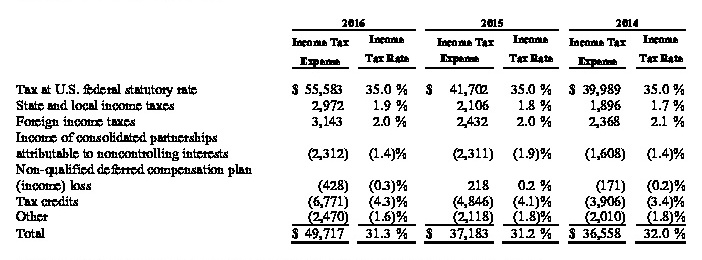table: (0, 0, 702, 260)
